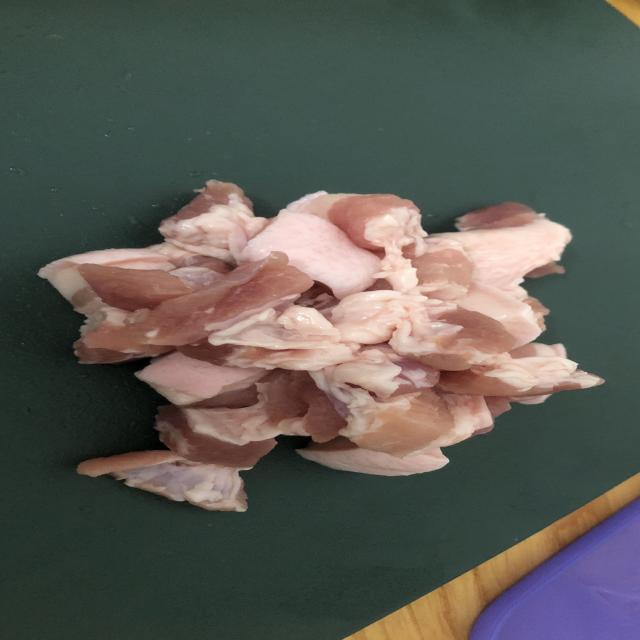chicken: (74, 197, 602, 520)
